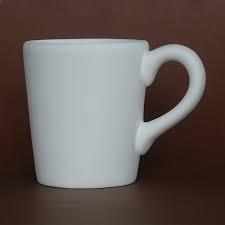Mug: (13, 27, 209, 196)
